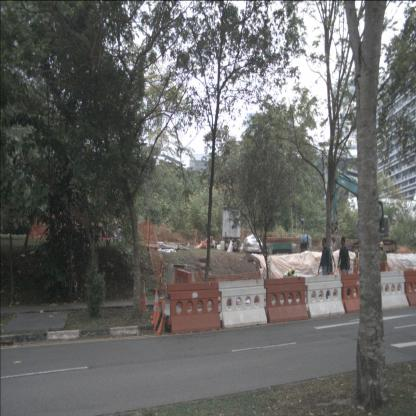barrier: (166, 282, 221, 334), (219, 278, 268, 328), (264, 276, 308, 324), (304, 274, 345, 319), (341, 273, 376, 315), (376, 270, 409, 310), (175, 268, 193, 310), (403, 270, 416, 307)
cone: (151, 285, 161, 326), (140, 282, 149, 312), (194, 241, 204, 249), (199, 240, 207, 249)
